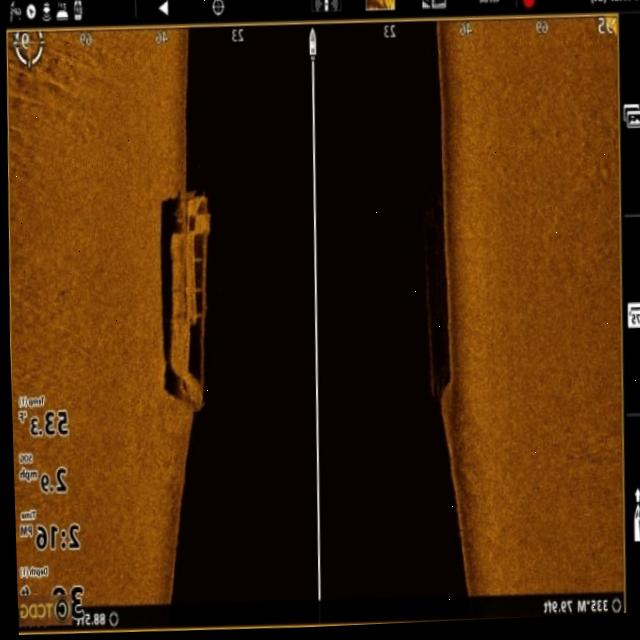shipwreck: (157, 184, 216, 416)
